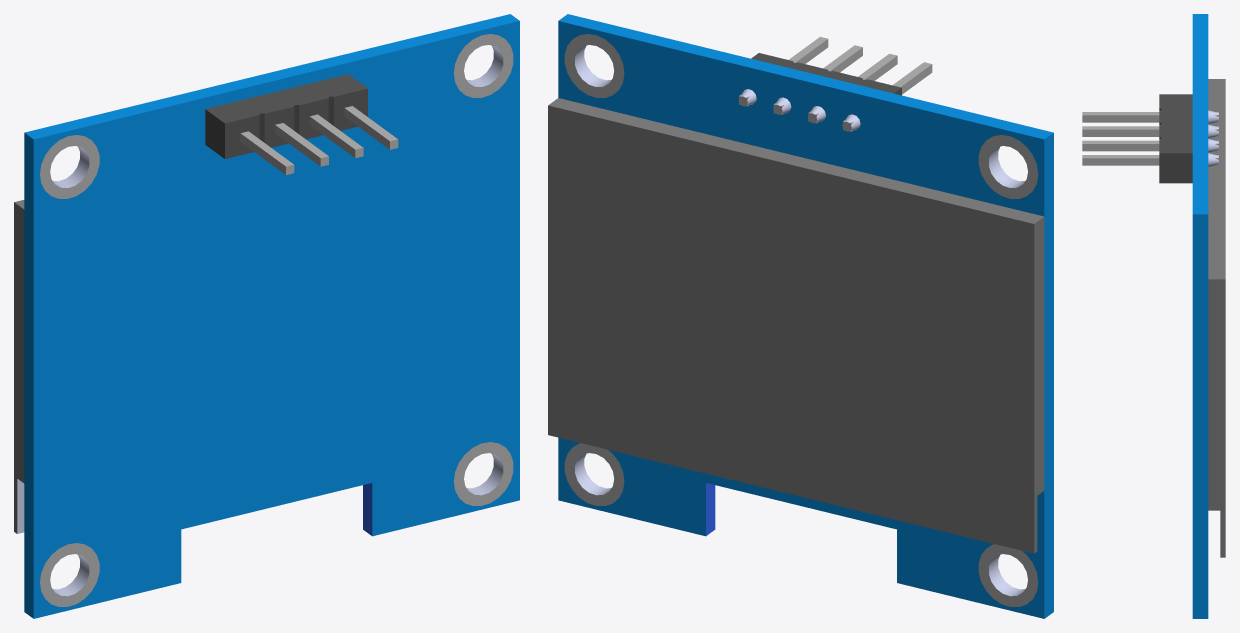
Rendered from OLED 1.3 I2C.obj.
3 renders of one model, left to right at view 1: azimuth 30°, elevation 25°; view 2: azimuth 150°, elevation 25°; view 3: azimuth 270°, elevation 25°, orthographic. The views are drawn at different scales.
Visible parts, largest first — view 1: Solid1; view 2: Solid1; view 3: Solid1.
Boxes of the visible parts, x1,y1,x2,y2 form: Solid1: (14,14,519,618); Solid1: (548,14,1053,618); Solid1: (1082,14,1225,618).
Size of the model in its own units: 35.65 by 33.6 by 10.8.
